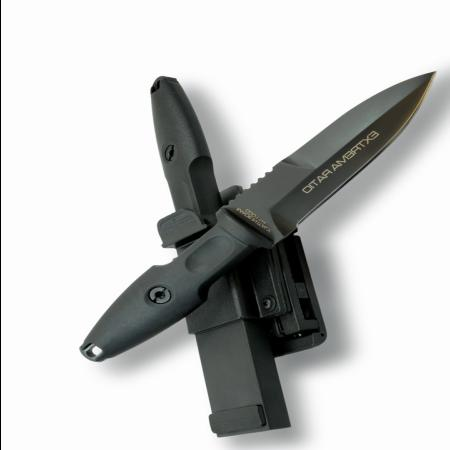long weapon: (215, 67, 443, 243)
